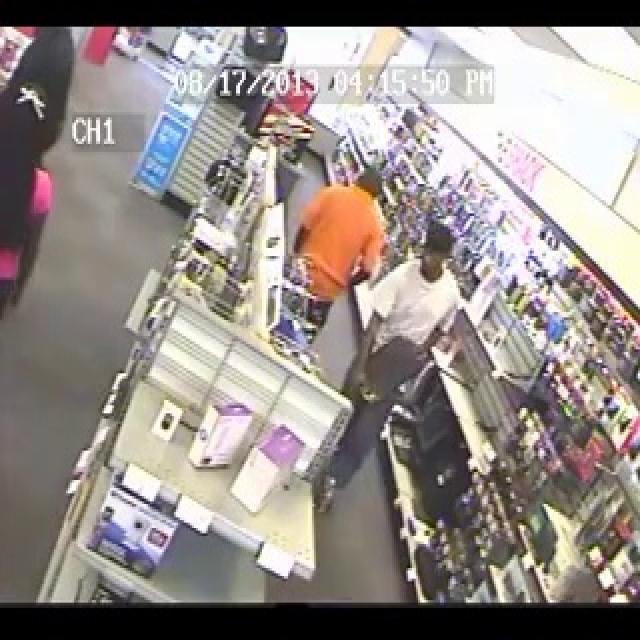Normal: (0, 28, 640, 604)
